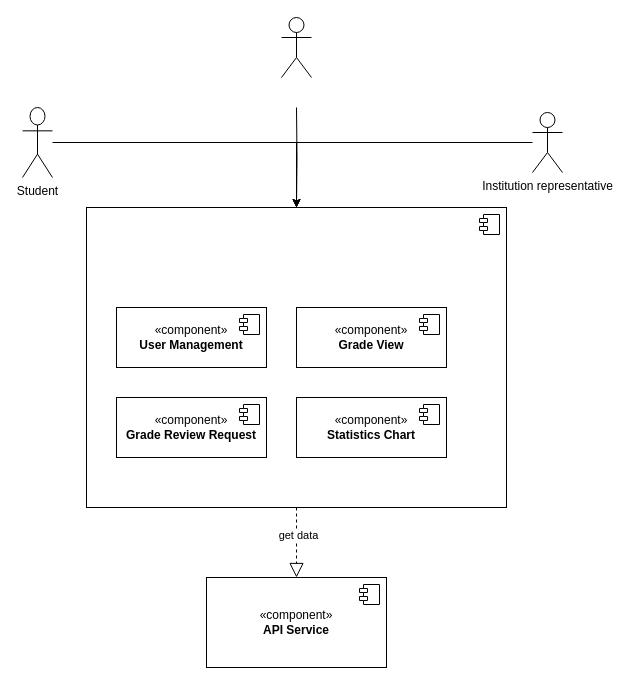
Some shapes in this 630 by 685 pixel diagram are drawn without their labels. The box of each missing label's shape, as (x1, y1, x2, y2) in pixels:
Instructor: (280, 16, 312, 78)
«component» Frontend: (86, 206, 506, 508)
